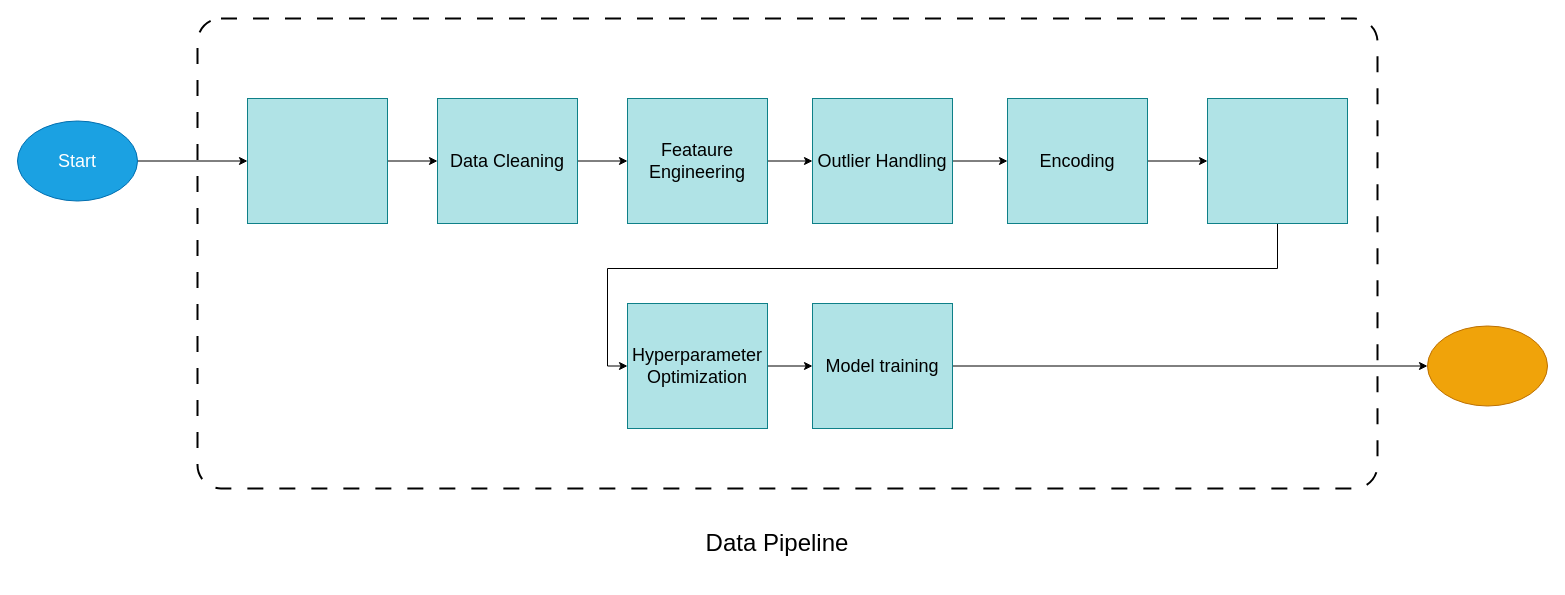
This 1565x595 diagram has some shape labels left out. The shapes that lost their labels are listed below. From the top down, each one's centre as x and y in pixels, then its label:
At pixel 317 161: "Data Loader".
At pixel 1277 161: "Dataset Balancing".
At pixel 1487 365: "End".
